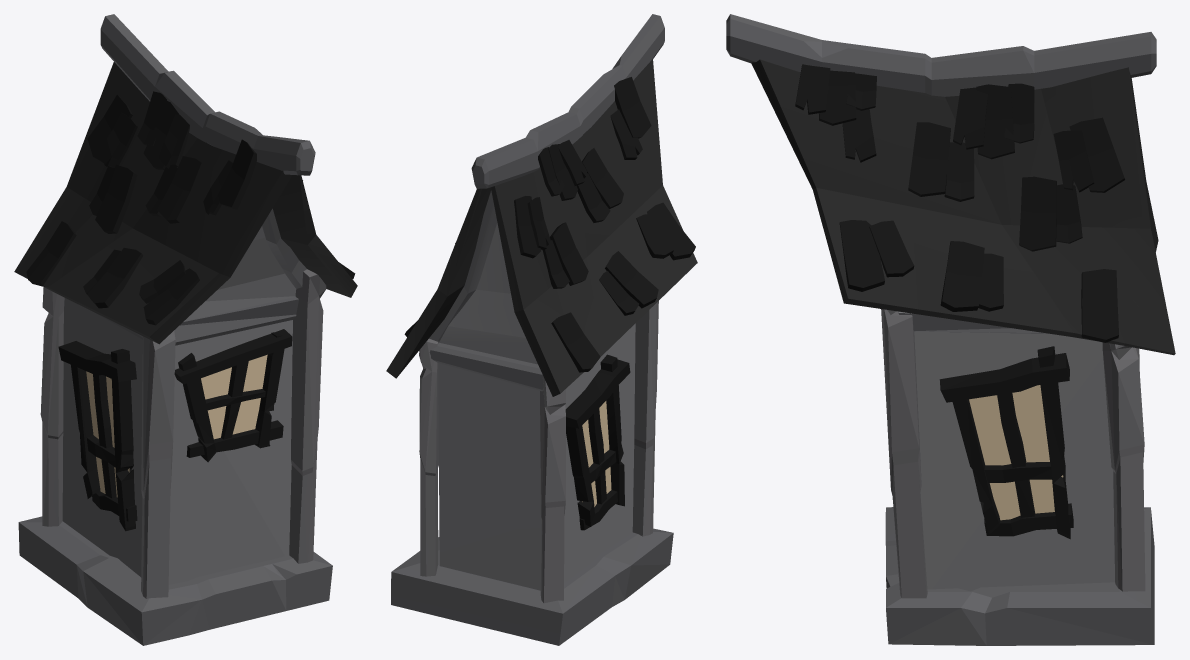
File: WF_LP_HT_Build_HouseRoom.004.fbx
The picture shows the model from 3 angles, left to right: view 1: azimuth 30°, elevation 25°; view 2: azimuth 150°, elevation 25°; view 3: azimuth 270°, elevation 25°; orthographic projection. The views are drawn at different scales.
Visible parts, largest first — view 1: WF_LP_HT_Build_HouseRoom.004; view 2: WF_LP_HT_Build_HouseRoom.004; view 3: WF_LP_HT_Build_HouseRoom.004.
Boxes of the visible parts, x1=… form: WF_LP_HT_Build_HouseRoom.004: x1=14, y1=14, x2=357, y2=645; WF_LP_HT_Build_HouseRoom.004: x1=386, y1=14, x2=697, y2=645; WF_LP_HT_Build_HouseRoom.004: x1=726, y1=14, x2=1175, y2=645.
Size of the model in its own units: 2.67 by 6.37 by 4.5.
